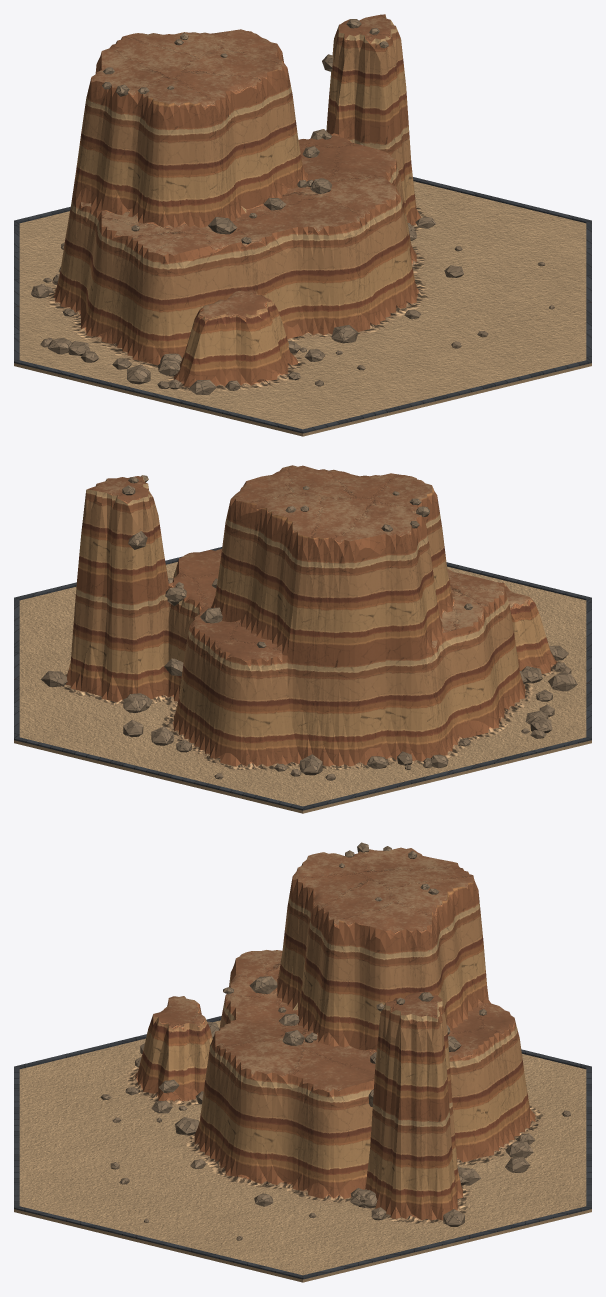
Rendered from SandCliffs.glb.
3 renders of one model, top to bottom at view 1: azimuth 30°, elevation 25°; view 2: azimuth 150°, elevation 25°; view 3: azimuth 270°, elevation 25°, orthographic.
Visible parts, largest first — view 1: SandCliffs_Ground, SandCliffs_CliffFace, SandCliffs_Rock, SandCliffs_GroundTrim, SandCliffs_PadSide; view 2: SandCliffs_CliffFace, SandCliffs_Ground, SandCliffs_Rock, SandCliffs_GroundTrim, SandCliffs_PadSide; view 3: SandCliffs_Ground, SandCliffs_CliffFace, SandCliffs_Rock, SandCliffs_GroundTrim, SandCliffs_PadSide.
Boxes of the visible parts, x1,y1,x2,y2 form: SandCliffs_Ground: [19, 14, 586, 429]; SandCliffs_CliffFace: [55, 16, 421, 386]; SandCliffs_Rock: [31, 19, 554, 394]; SandCliffs_GroundTrim: [14, 177, 591, 433]; SandCliffs_PadSide: [14, 363, 591, 436]; SandCliffs_CliffFace: [66, 477, 555, 766]; SandCliffs_Ground: [19, 465, 586, 806]; SandCliffs_Rock: [41, 475, 577, 780]; SandCliffs_GroundTrim: [14, 547, 591, 810]; SandCliffs_PadSide: [14, 740, 591, 813]; SandCliffs_Ground: [19, 847, 586, 1275]; SandCliffs_CliffFace: [138, 855, 535, 1220]; SandCliffs_Rock: [100, 842, 571, 1240]; SandCliffs_GroundTrim: [14, 1016, 591, 1279]; SandCliffs_PadSide: [14, 1209, 591, 1282].
Size of the model in its own units: 12 by 4.55 by 10.39.
Materials: 5 (5 with a texture image).
